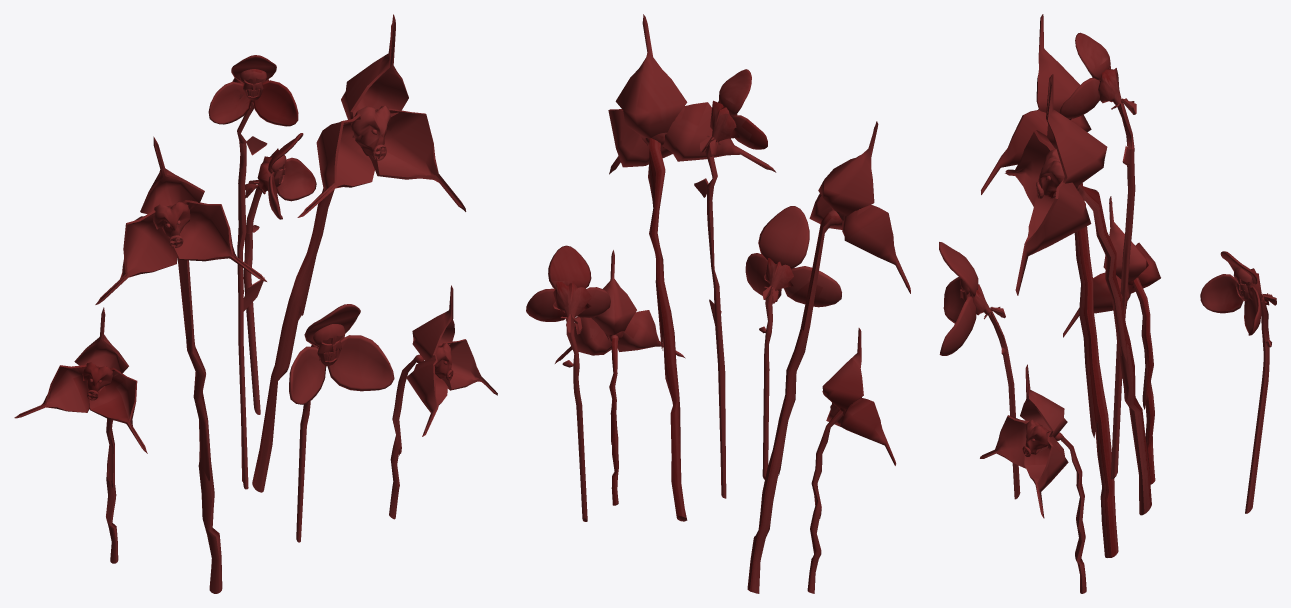
The model's file is Cara de mono.fbx.
The picture shows the model from 3 angles, left to right: view 1: azimuth 30°, elevation 25°; view 2: azimuth 150°, elevation 25°; view 3: azimuth 270°, elevation 25°; orthographic projection. The views are drawn at different scales.
Parts seen in each view (by area): view 1: polySurface16, Petalos_de_mono_1_v2, Petalos, polySurface30, polySurface23, pCube28, pCube43, polySurface3, pCube25, pCube24, polySurface5, polySurface14 (+7 smaller); view 2: polySurface16, Petalos_de_mono_1_v2, Petalos, pCube28, pCube43, polySurface23, pCube25, polySurface30, polySurface5, pCube24, pCube44, polySurface3 (+2 smaller); view 3: polySurface16, pCube43, pCube28, polySurface23, Petalos_de_mono_1_v2, pCube25, Petalos, polySurface30, polySurface5, polySurface3, pCube24, pCube29 (+4 smaller).
Part boxes in pixels (bbox=[...]): polySurface16: bbox=[297, 14, 466, 217]; Petalos_de_mono_1_v2: bbox=[95, 136, 266, 304]; Petalos: bbox=[289, 304, 394, 404]; polySurface30: bbox=[14, 307, 147, 453]; polySurface23: bbox=[406, 285, 497, 436]; pCube28: bbox=[252, 188, 334, 492]; pCube43: bbox=[177, 257, 222, 593]; polySurface3: bbox=[208, 55, 298, 126]; pCube25: bbox=[232, 78, 268, 489]; pCube24: bbox=[243, 148, 278, 414]; polySurface5: bbox=[268, 133, 316, 219]; polySurface14: bbox=[351, 106, 390, 160]; polySurface16: bbox=[608, 14, 776, 174]; Petalos_de_mono_1_v2: bbox=[809, 121, 910, 293]; Petalos: bbox=[745, 206, 841, 307]; pCube28: bbox=[645, 138, 687, 521]; pCube43: bbox=[747, 210, 842, 593]; polySurface23: bbox=[555, 250, 685, 363]; pCube25: bbox=[694, 100, 740, 498]; polySurface30: bbox=[822, 328, 896, 465]; polySurface5: bbox=[526, 245, 610, 321]; pCube24: bbox=[553, 281, 591, 521]; pCube44: bbox=[759, 258, 793, 479]; polySurface3: bbox=[718, 69, 767, 149]; polySurface16: bbox=[1005, 74, 1107, 295]; pCube43: bbox=[1074, 183, 1118, 557]; pCube28: bbox=[1077, 184, 1151, 515]; polySurface23: bbox=[980, 364, 1068, 518]; Petalos_de_mono_1_v2: bbox=[981, 14, 1091, 194]; pCube25: bbox=[1098, 68, 1136, 479]; Petalos: bbox=[939, 242, 978, 355]; polySurface30: bbox=[1063, 196, 1160, 337]; polySurface5: bbox=[1200, 251, 1261, 335]; polySurface3: bbox=[1059, 32, 1110, 118]; pCube24: bbox=[1245, 268, 1276, 513]; pCube29: bbox=[1133, 277, 1155, 484].
Bounding box in the file's own units: 8.94 × 11.34 × 6.25.
